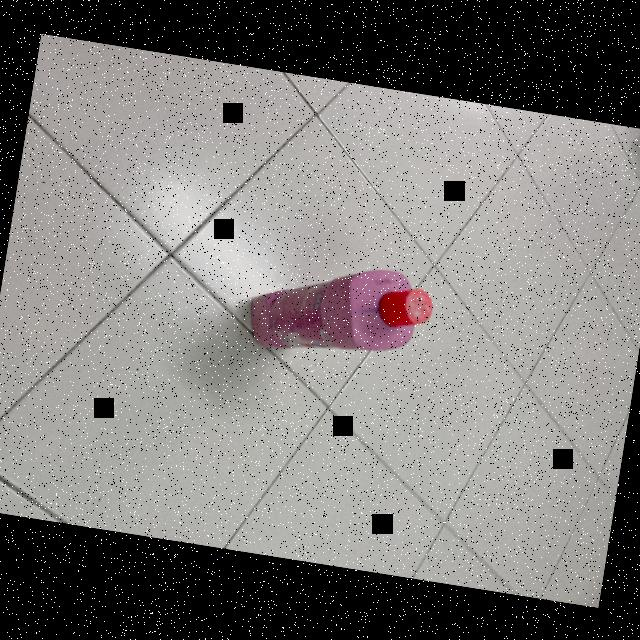chemical_plastic_bottle: (241, 242, 448, 380)
